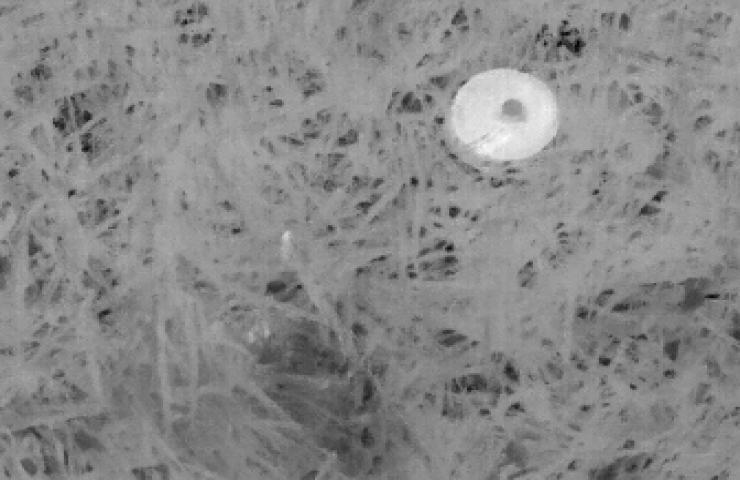landmines: (445, 64, 566, 167)
